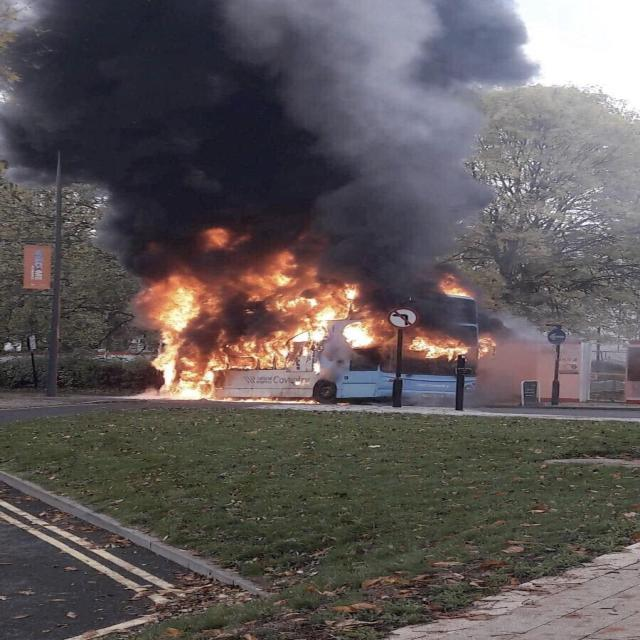Fire: (133, 235, 357, 405), (409, 330, 496, 362), (342, 322, 380, 348), (440, 274, 470, 296)
Smoke: (0, 0, 534, 306)
